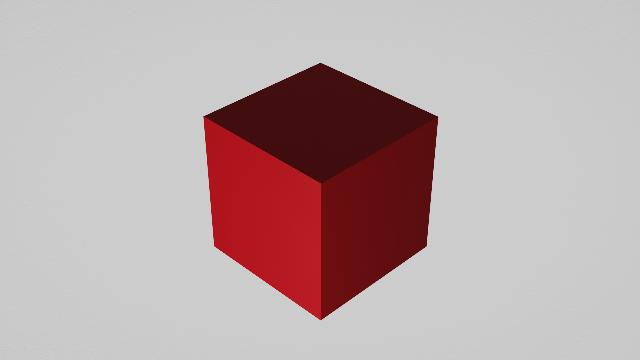Cube: (193, 53, 447, 323)
